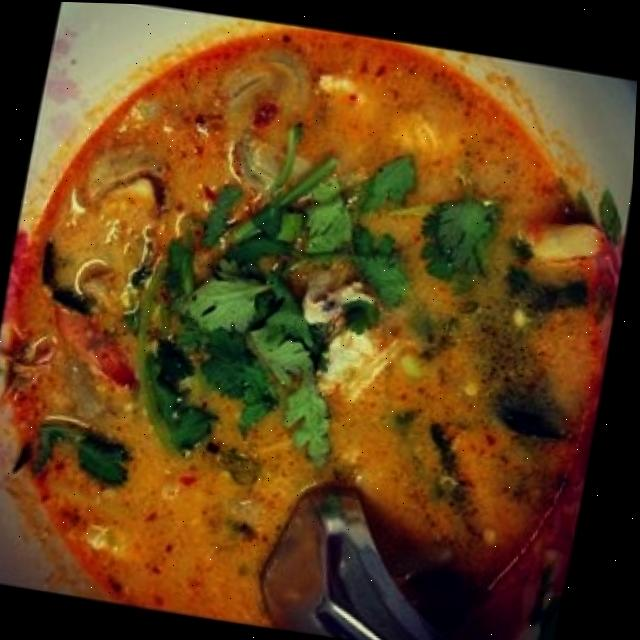汤锅炖物: (0, 10, 624, 640)
